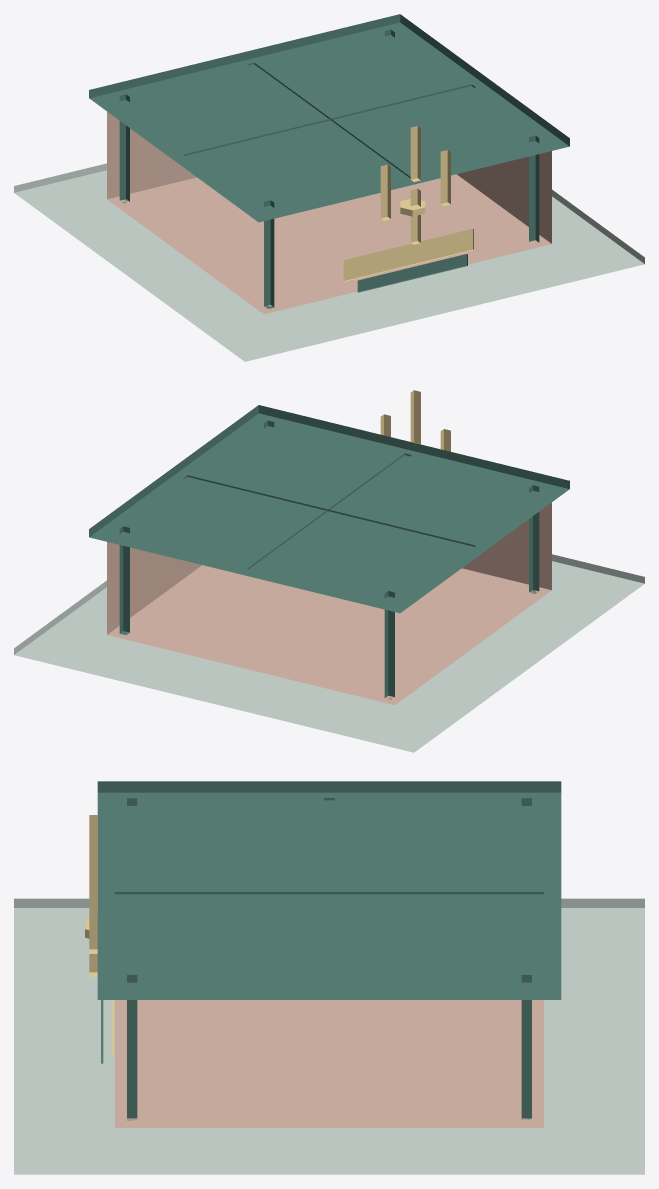
Rendered from mill.glb.
3 renders of one model, top to bottom at view 1: azimuth 30°, elevation 25°; view 2: azimuth 150°, elevation 25°; view 3: azimuth 270°, elevation 25°, orthographic. The views are drawn at different scales.
Visible parts, largest first — view 1: Roof, Walls, Foundation, Details, Frame; view 2: Roof, Walls, Foundation, Frame, Details; view 3: Roof, Foundation, Walls, Frame, Details.
Part boxes in pixels (x1=…): Roof: x1=89, y1=14, x2=569, y2=222; Walls: x1=107, y1=111, x2=551, y2=314; Foundation: x1=14, y1=163, x2=644, y2=361; Details: x1=343, y1=126, x2=473, y2=292; Frame: x1=119, y1=29, x2=539, y2=308; Roof: x1=89, y1=405, x2=569, y2=613; Walls: x1=107, y1=502, x2=551, y2=704; Foundation: x1=14, y1=554, x2=644, y2=752; Frame: x1=119, y1=420, x2=539, y2=699; Details: x1=380, y1=390, x2=450, y2=451; Roof: x1=97, y1=781, x2=561, y2=999; Foundation: x1=14, y1=898, x2=644, y2=1174; Walls: x1=115, y1=1000, x2=543, y2=1127; Frame: x1=115, y1=798, x2=543, y2=1120; Details: x1=85, y1=815, x2=113, y2=1063.
Size of the model in its own units: 40 by 15.67 by 40.
